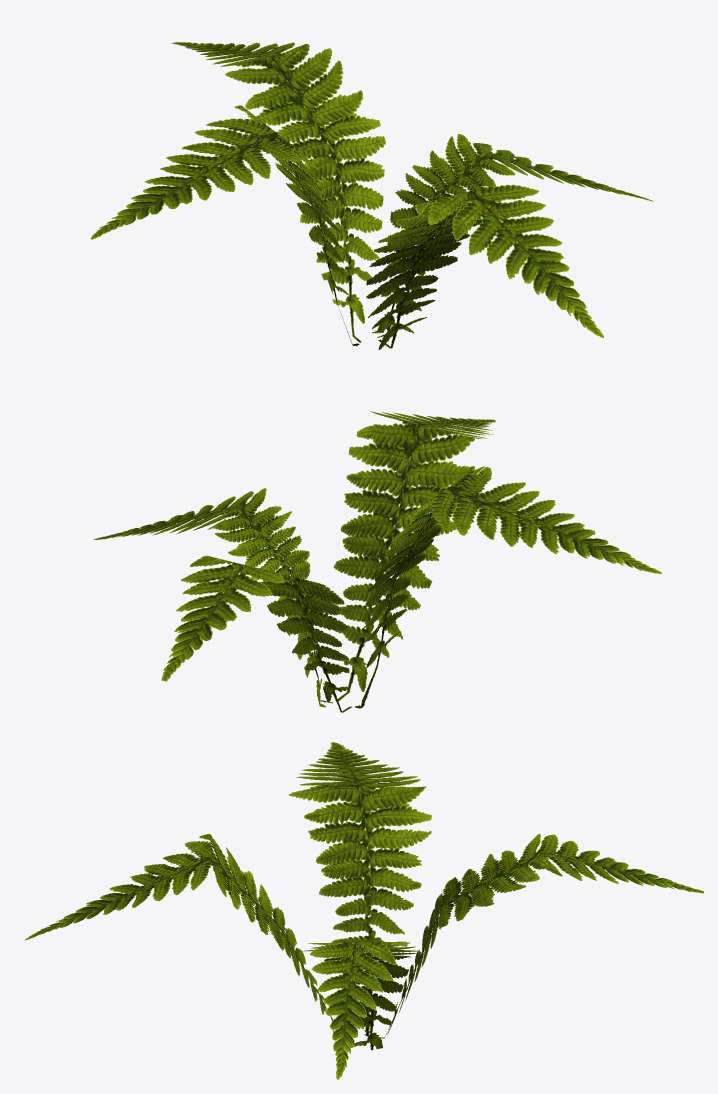
The model's file is thefernn.fbx.
3 views of the same model, one above another, from view 1: azimuth 30°, elevation 25°; view 2: azimuth 150°, elevation 25°; view 3: azimuth 270°, elevation 25° (orthographic). The views are drawn at different scales.
Parts seen in each view (by area): view 1: pPlane1; view 2: pPlane1; view 3: pPlane1.
Part boxes in pixels (x1,y1,x2,y2): pPlane1: (90,42,653,349); pPlane1: (94,411,661,712); pPlane1: (25,742,703,1079).
Size of the model in its own units: 40.71 by 16.25 by 48.17.
